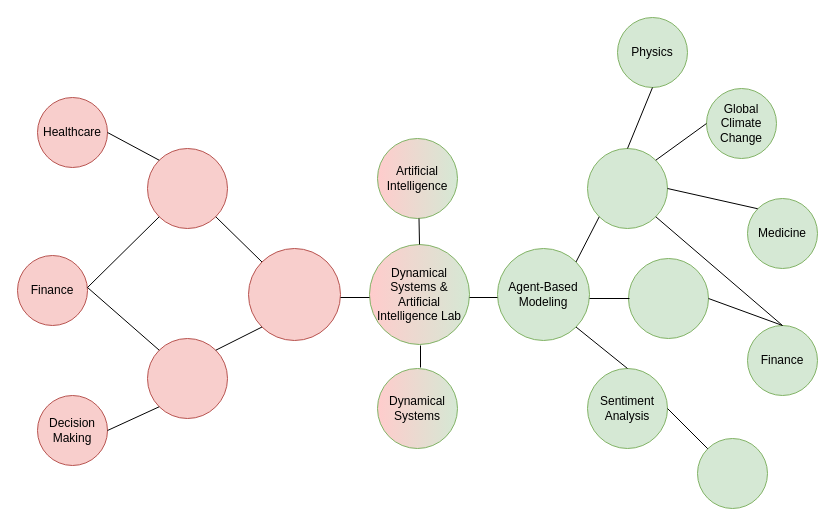
Image size: 835x526. Some labels were removed from this diagram. Here are the shapes that lost their labels. From the top down, the centre of each, then its label:
At (x=187, y=188): "Differential Equations (ODEs/PDEs)".
At (x=627, y=188): "Time Series".
At (x=294, y=294): "Equation-Based Modeling".
At (x=668, y=298): "Networks".
At (x=187, y=378): "Operations Research".
At (x=732, y=473): "Political Science".
